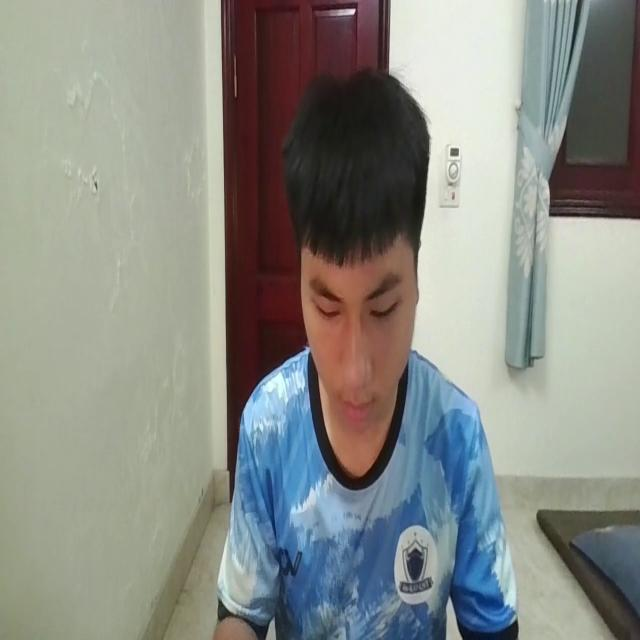student: (216, 66, 519, 636)
